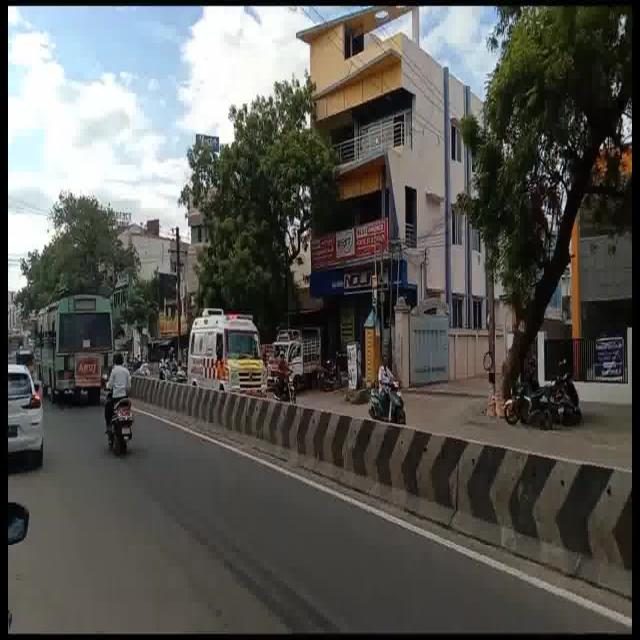ambulance: (189, 314, 268, 395)
